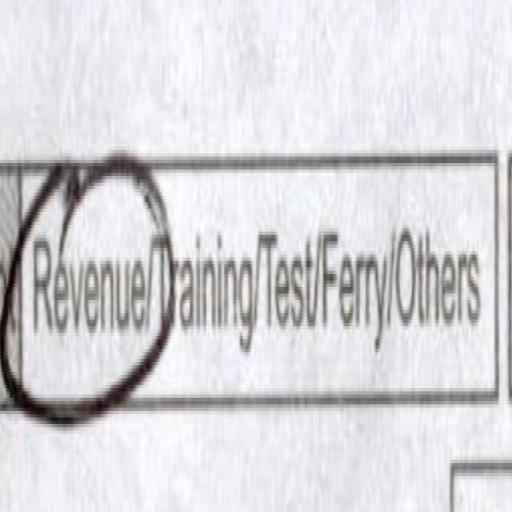check: (26, 142, 142, 448)
